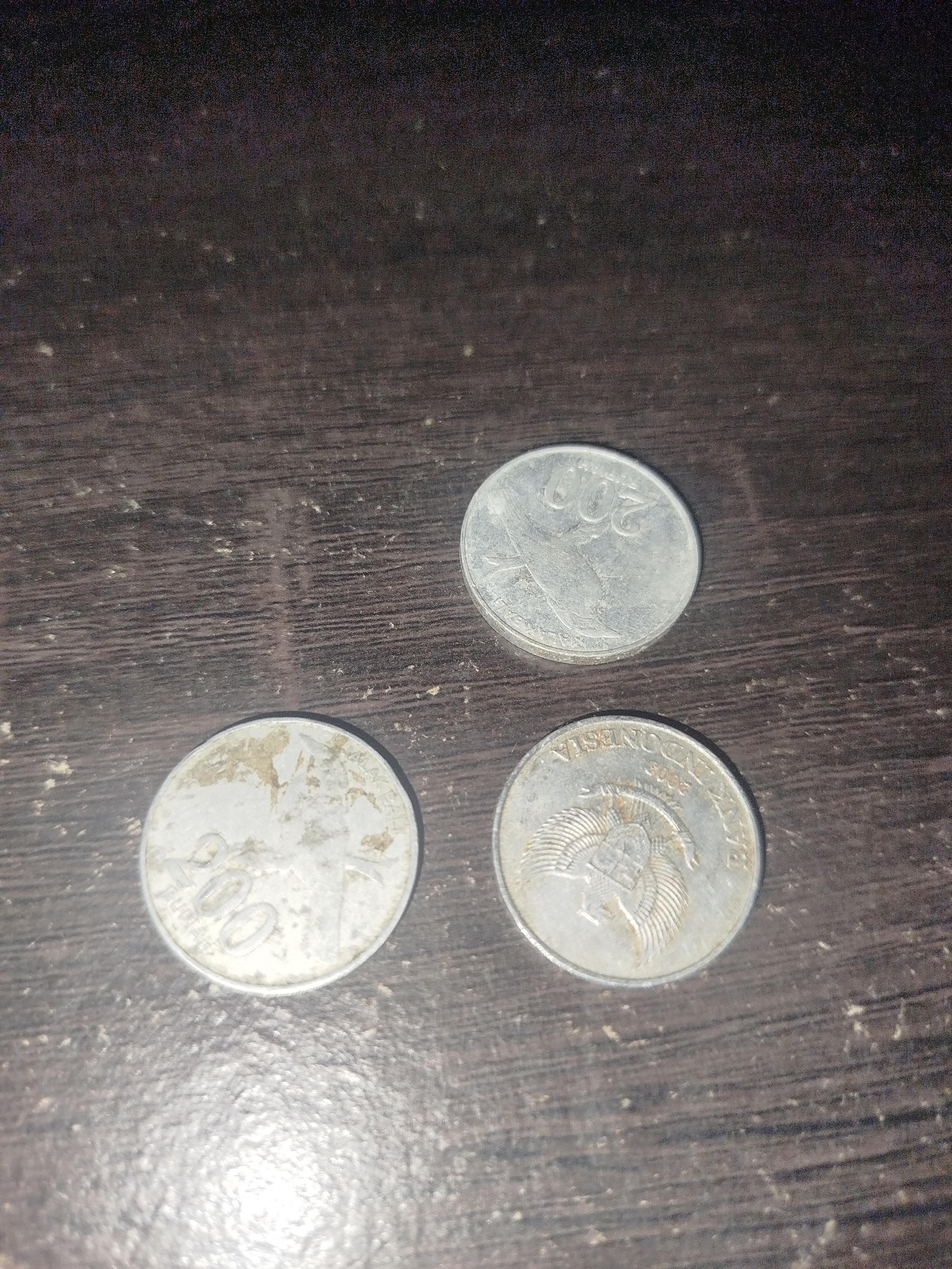coin_200_e2003: (139, 708, 427, 1004), (491, 712, 768, 991), (460, 439, 706, 665)
